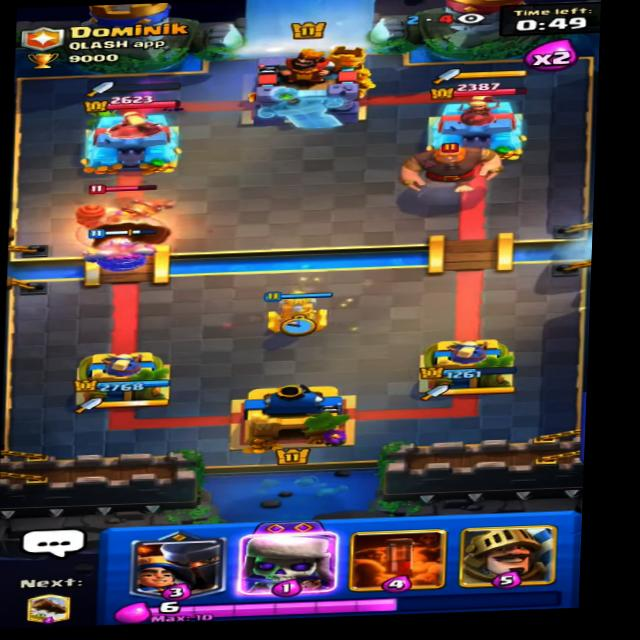giant: (390, 134, 504, 195)
goblin-machine: (69, 174, 176, 241)
